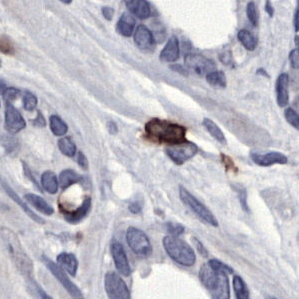Lymphocyte: (142, 117, 189, 146)
